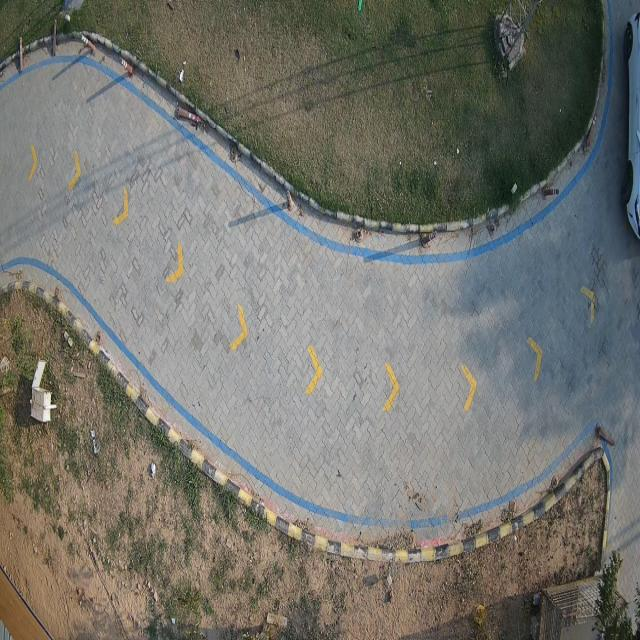car: (621, 11, 640, 238)
